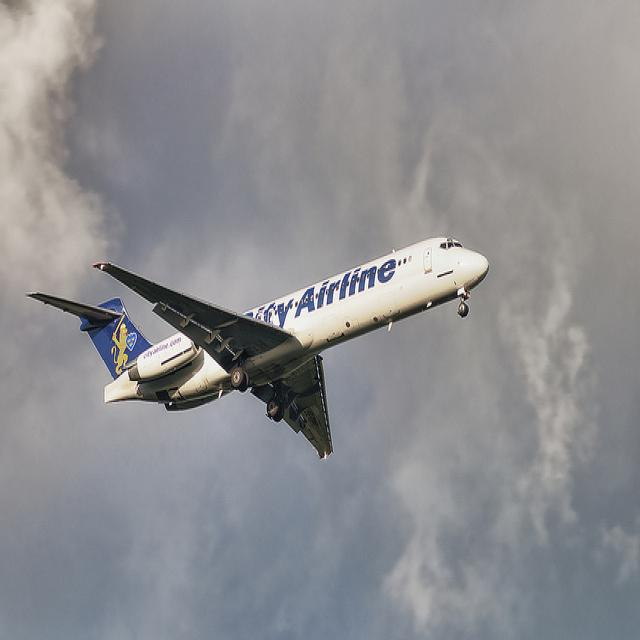airplane: (22, 234, 491, 459)
